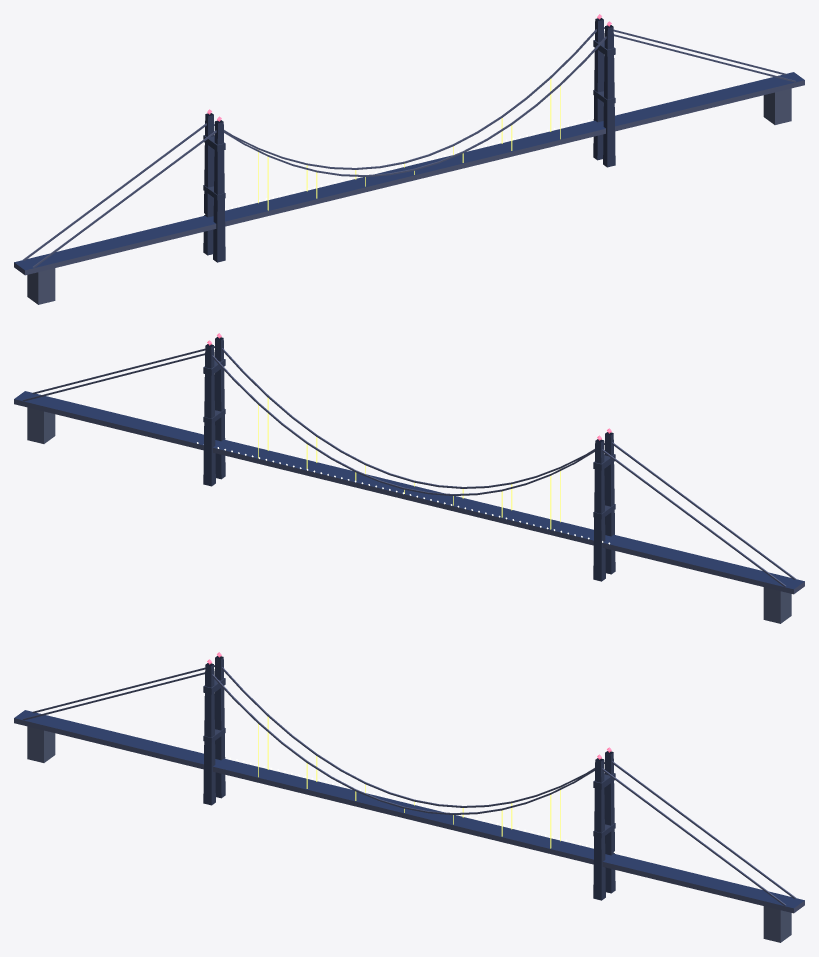
Rendered from W1_Far_Bridge.fbx.
The picture shows the model from 3 angles, top to bottom: view 1: azimuth 30°, elevation 25°; view 2: azimuth 150°, elevation 25°; view 3: azimuth 330°, elevation 25°; orthographic projection.
Visible parts, largest first — view 1: W1_Far_Bridge; view 2: W1_Far_Bridge; view 3: W1_Far_Bridge.
Part boxes in pixels (x1,y1,x2,y2): W1_Far_Bridge: [14, 14, 804, 304]; W1_Far_Bridge: [14, 333, 804, 623]; W1_Far_Bridge: [14, 652, 804, 942].
Bounding box in the file's own units: 648 × 114 × 20.
